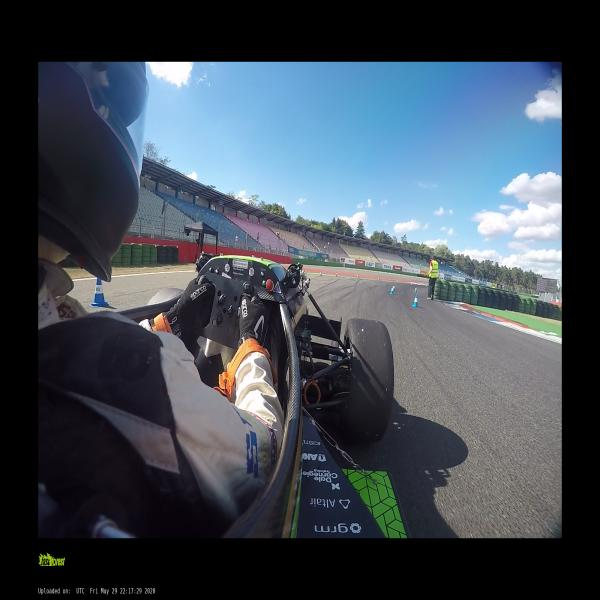blue_cone: (92, 278, 108, 306), (412, 295, 418, 307), (390, 287, 393, 294), (414, 286, 417, 292), (335, 272, 338, 277), (393, 284, 395, 291), (320, 271, 322, 276), (378, 277, 380, 281)
